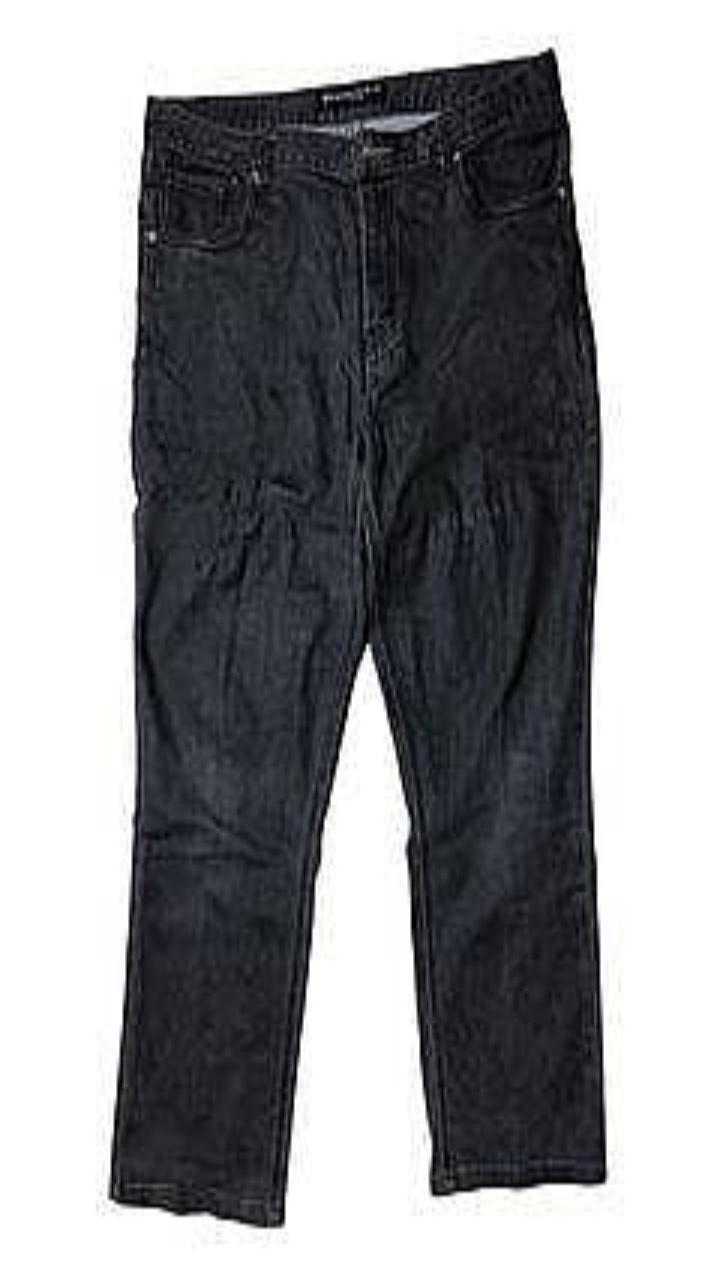Jeans: (111, 51, 604, 1224)
